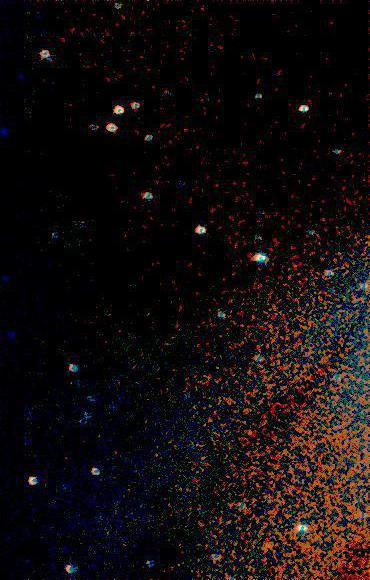star: (253, 532, 283, 562)
